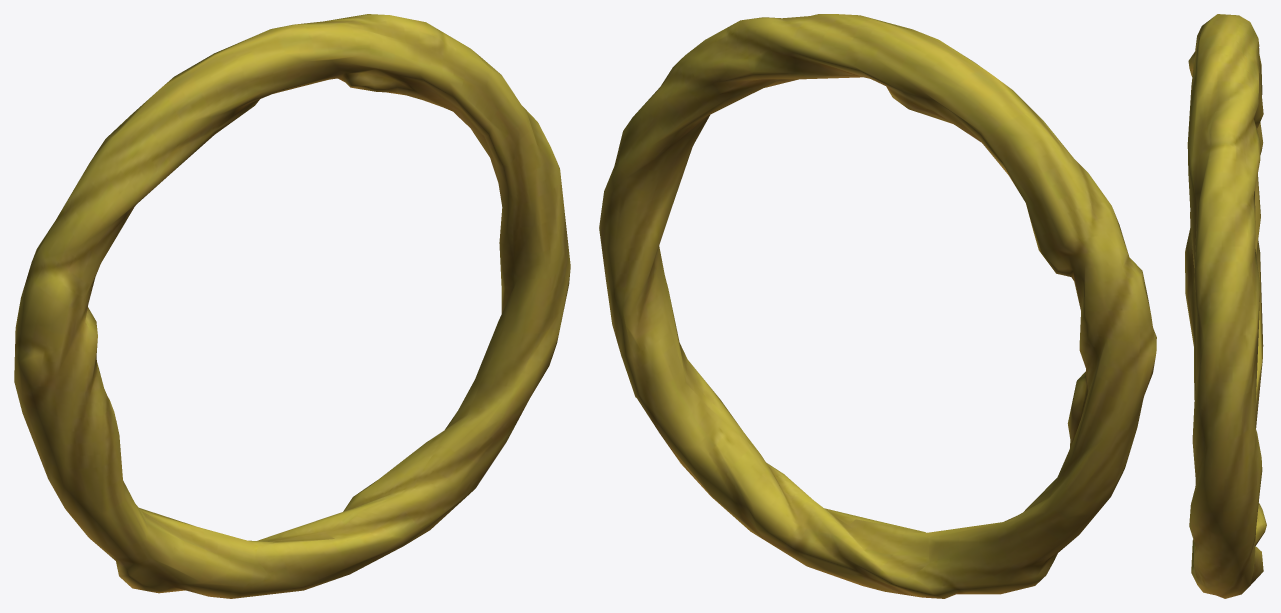
The model's file is hoard_ring_b.glb.
The picture shows the model from 3 angles, left to right: view 1: azimuth 30°, elevation 25°; view 2: azimuth 150°, elevation 25°; view 3: azimuth 270°, elevation 25°; orthographic projection. The views are drawn at different scales.
Parts seen in each view (by area): view 1: ring2-a; view 2: ring2-a; view 3: ring2-a.
Part boxes in pixels (bbox=[...]): ring2-a: bbox=[14, 14, 570, 598]; ring2-a: bbox=[599, 14, 1156, 598]; ring2-a: bbox=[1185, 14, 1266, 598].
Size of the model in its own units: 1.02 by 0.999 by 0.1399.
Materials: 1 (1 with a texture image).
